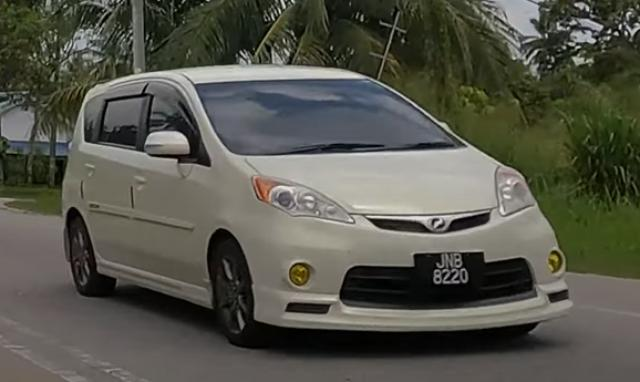License_Plate: (418, 252, 485, 289)
car: (62, 63, 575, 347)
